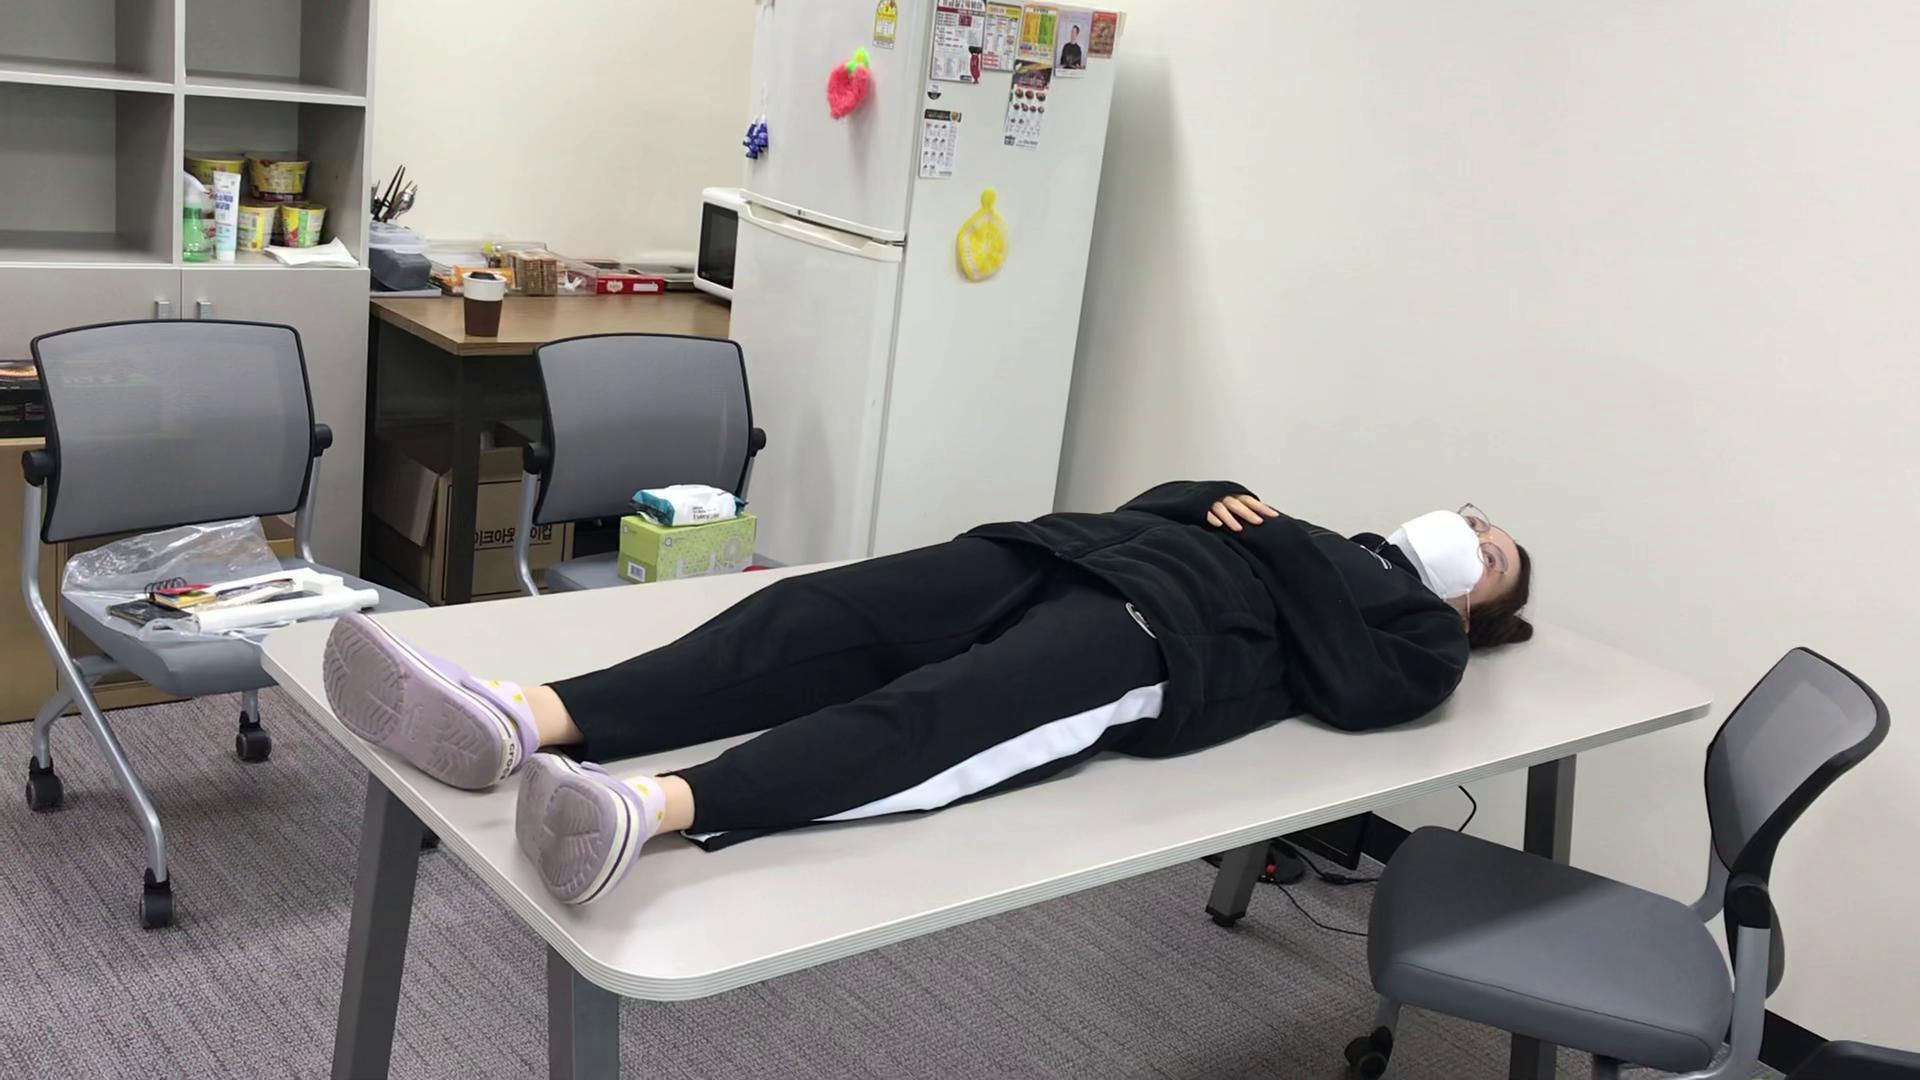sleep: (320, 480, 1528, 884)
